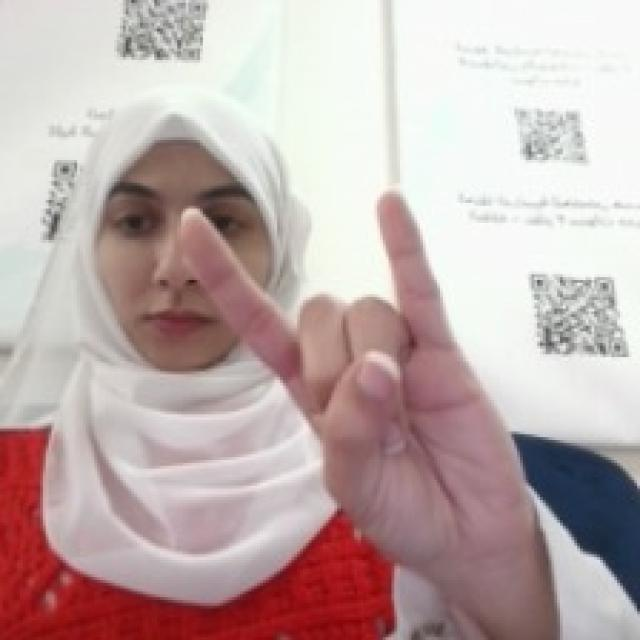No: (191, 180, 526, 566)
